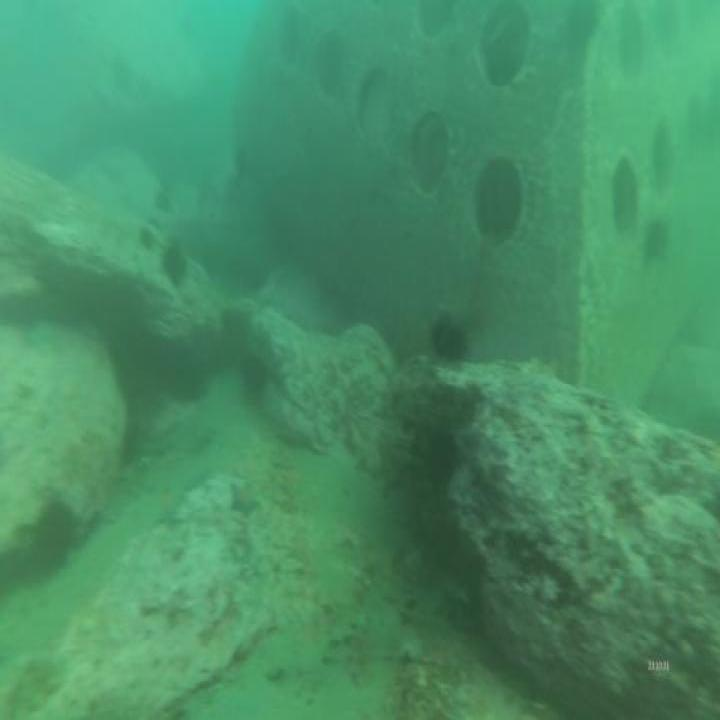echinus: (433, 300, 471, 370), (163, 229, 187, 294)
starfish: (227, 473, 264, 526)
